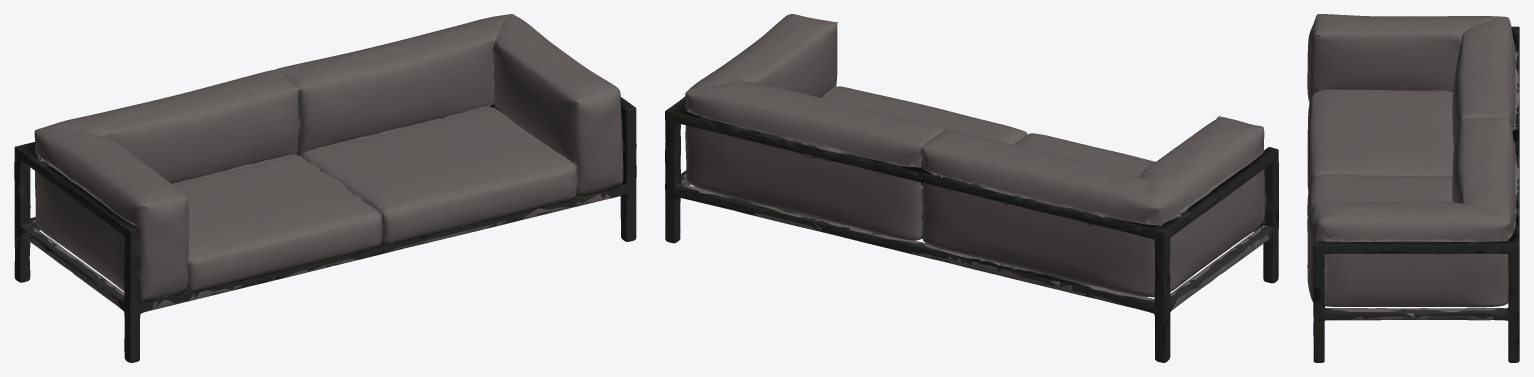
The picture shows the model from 3 angles, left to right: view 1: azimuth 30°, elevation 25°; view 2: azimuth 150°, elevation 25°; view 3: azimuth 270°, elevation 25°; orthographic projection. The views are drawn at different scales.
Visible parts, largest first — view 1: tripo_node_4422fb27-00ae-49cf-bc22-107ed0ef52b0; view 2: tripo_node_4422fb27-00ae-49cf-bc22-107ed0ef52b0; view 3: tripo_node_4422fb27-00ae-49cf-bc22-107ed0ef52b0.
Boxes of the visible parts, x1,y1,x2,y2 form: tripo_node_4422fb27-00ae-49cf-bc22-107ed0ef52b0: [14, 14, 636, 362]; tripo_node_4422fb27-00ae-49cf-bc22-107ed0ef52b0: [665, 14, 1278, 362]; tripo_node_4422fb27-00ae-49cf-bc22-107ed0ef52b0: [1307, 14, 1519, 362].
Bounding box in the file's own units: 2.2 × 0.65 × 0.9.
2 materials, 2 textured.
